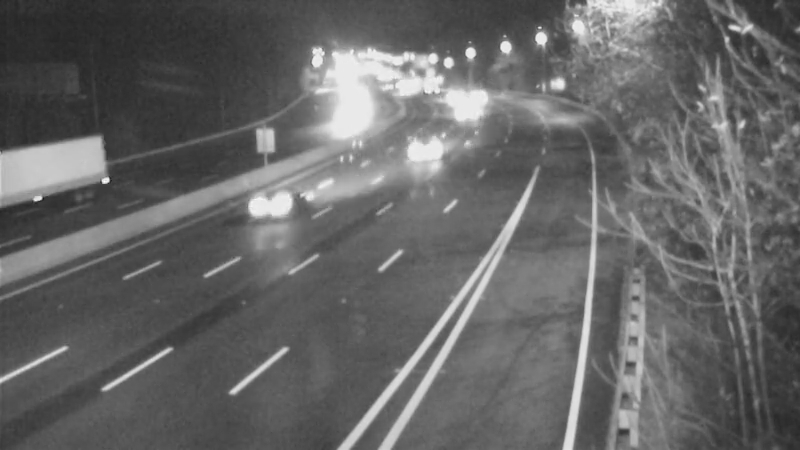vehicle: (382, 113, 462, 193), (234, 167, 314, 247), (1, 152, 72, 232), (407, 61, 457, 111), (425, 70, 475, 120), (450, 70, 500, 120), (441, 88, 491, 138)
